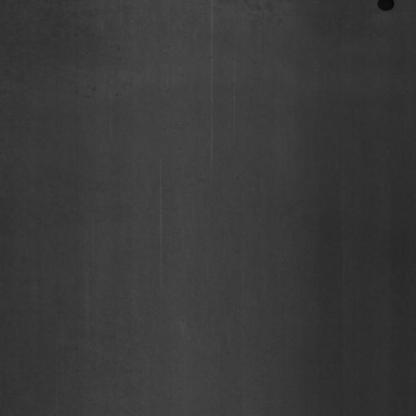punching_hole: (376, 0, 396, 16)
